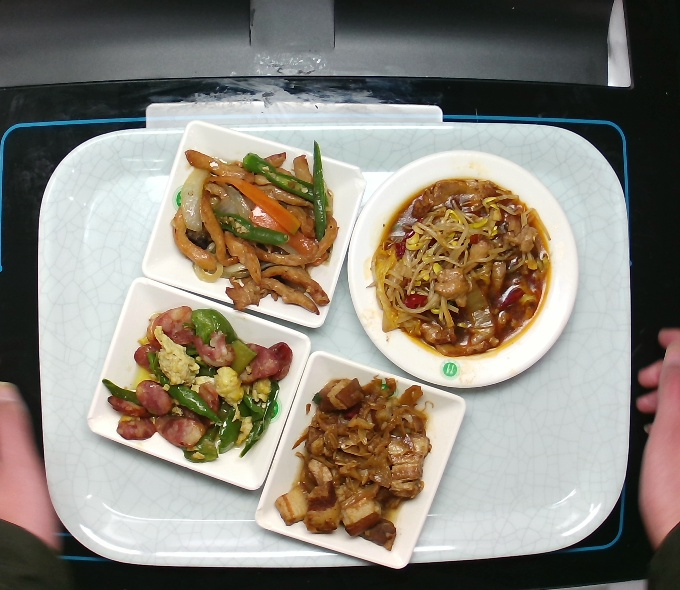wcq-HongShaoRou: (269, 371, 443, 556)
wcq-QingJiaoJiDanChaoDaChang: (99, 300, 300, 471)
wcq-QingJiaoRouSi: (166, 134, 343, 321)
wcq-ShuiZhuRouPian: (361, 169, 559, 362)
